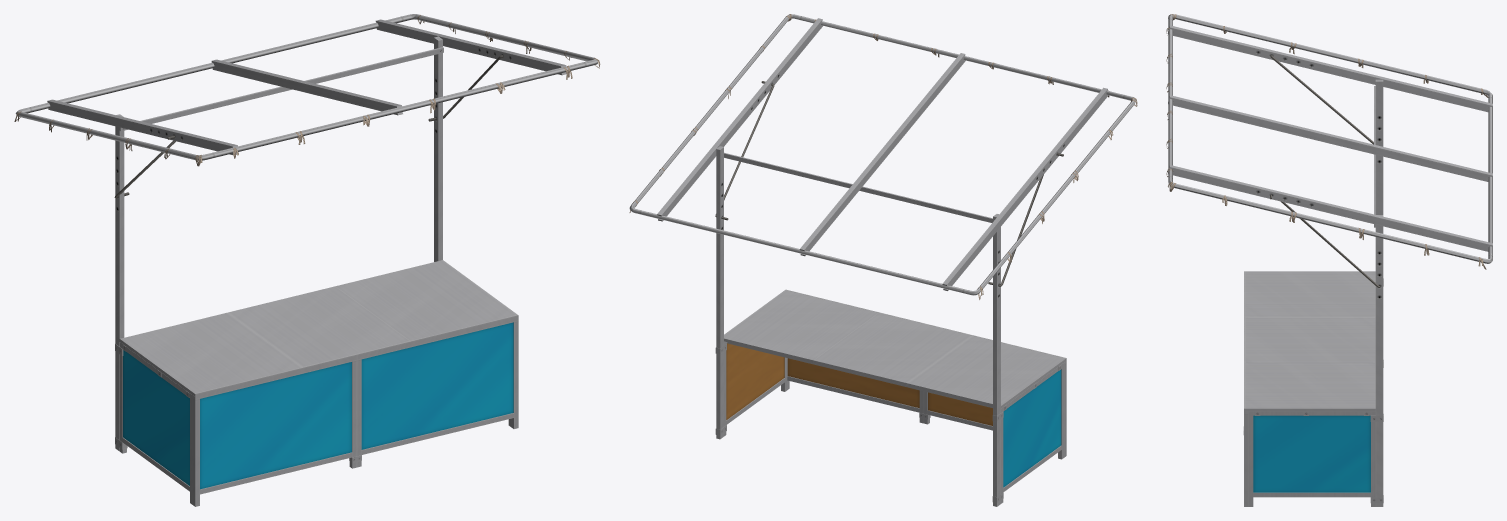
The model's file is jsf_2P_s02_c02_t01.fbx.
The picture shows the model from 3 angles, left to right: view 1: azimuth 30°, elevation 25°; view 2: azimuth 150°, elevation 25°; view 3: azimuth 270°, elevation 25°; orthographic projection. The views are drawn at different scales.
Parts seen in each view (by area): view 1: Base_s02_c02, Table_2P_s02_t01, Pillar2_s02, Rope_2P_s02; view 2: Pillar2_s02, Table_2P_s02_t01, Base_s02_c02; view 3: Pillar2_s02, Table_2P_s02_t01, Base_s02_c02, Rope_2P_s02.
Boxes of the visible parts, x1,y1,x2,y2 form: Base_s02_c02: (115,315,518,506); Table_2P_s02_t01: (119,260,517,397); Pillar2_s02: (15,14,597,451); Rope_2P_s02: (14,15,600,166); Pillar2_s02: (629,14,1135,506); Table_2P_s02_t01: (724,290,1065,410); Base_s02_c02: (715,289,1066,503); Pillar2_s02: (1168,14,1492,506); Table_2P_s02_t01: (1245,271,1375,415); Base_s02_c02: (1243,271,1383,506); Rope_2P_s02: (1166,14,1488,269).
Bounding box in the file's own units: 264 × 244 × 211.
